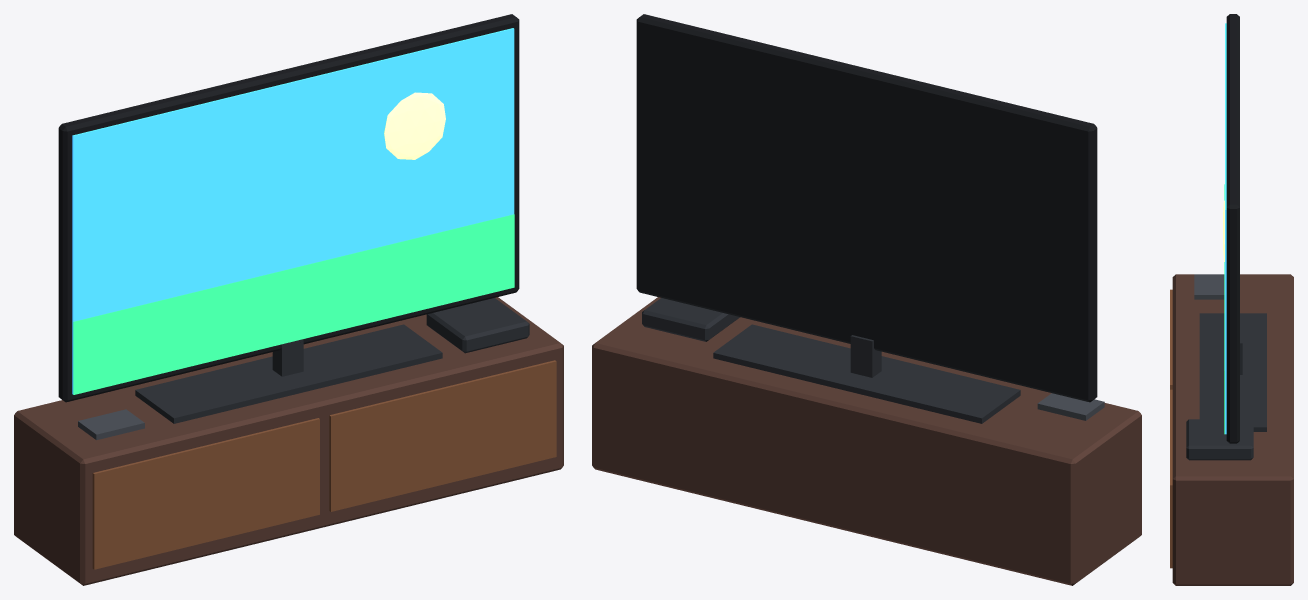
3 renders of one model, left to right at view 1: azimuth 30°, elevation 25°; view 2: azimuth 150°, elevation 25°; view 3: azimuth 270°, elevation 25°, orthographic. The views are drawn at different scales.
Visible parts, largest first — view 1: tv; view 2: tv; view 3: tv.
Boxes of the visible parts, bbox=[...] form: tv: bbox=[14, 14, 563, 585]; tv: bbox=[592, 14, 1141, 585]; tv: bbox=[1170, 14, 1293, 585].
Size of the model in its own units: 1.8 by 1.54 by 0.46.
